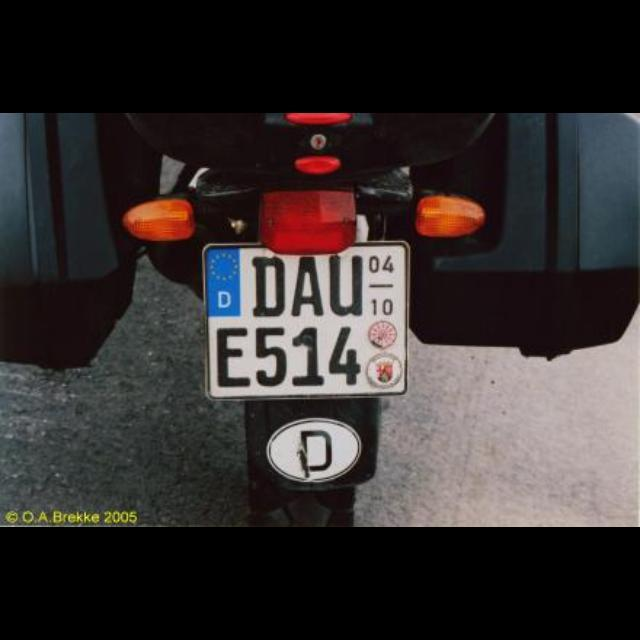license-plates: (204, 244, 407, 399)
